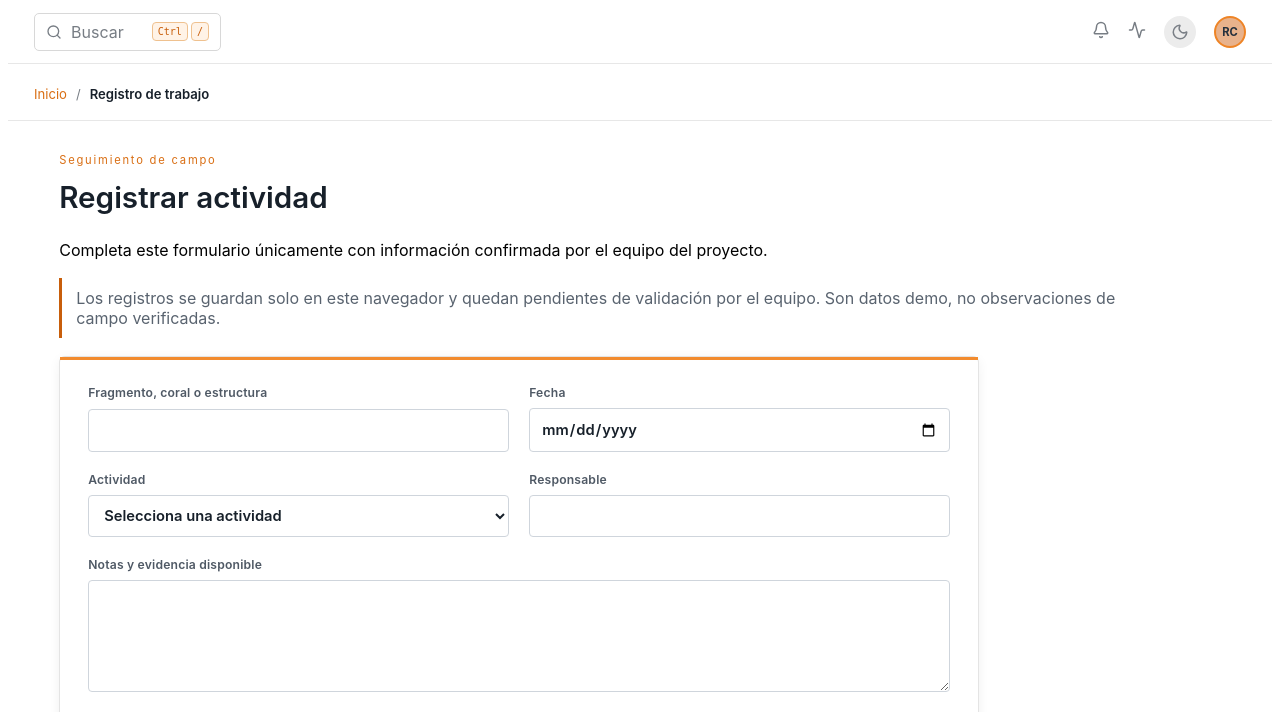
Test case: ObservationsPage › does not confirm success when storage writes fail
Type "F-1" into the field labelled "Fragmento, coral o estructura" at (299, 431), box [88, 409, 509, 452]
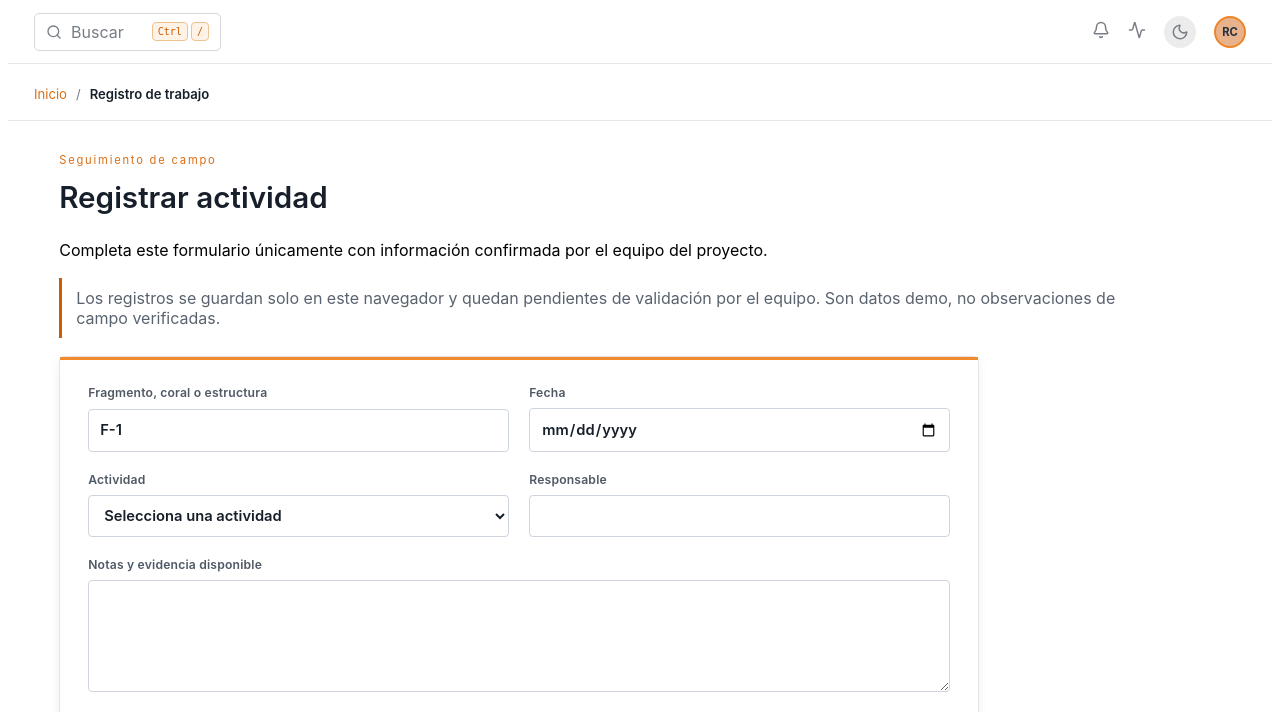
Type "2026-10-08" into the date field labelled "Fecha" at (740, 430), box [529, 408, 950, 452]
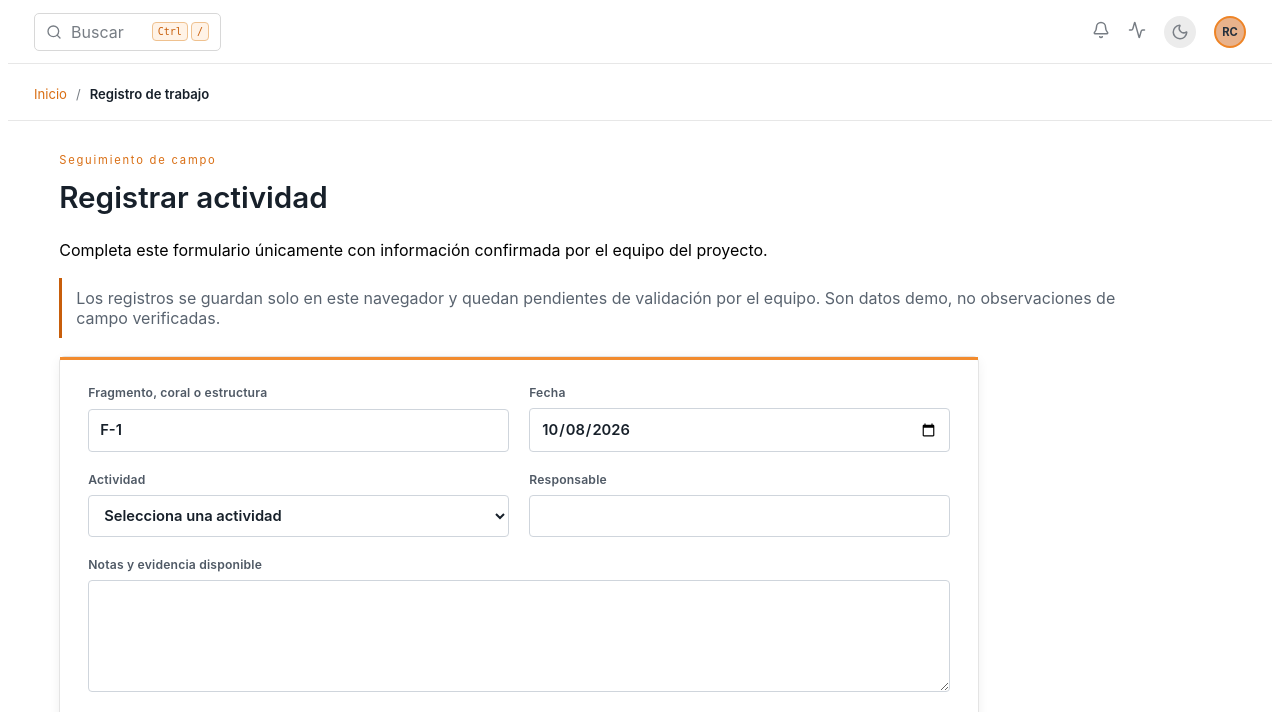
Select "Monitoreo" in the dropdown labelled "Actividad" at (299, 516), box [88, 495, 509, 537]
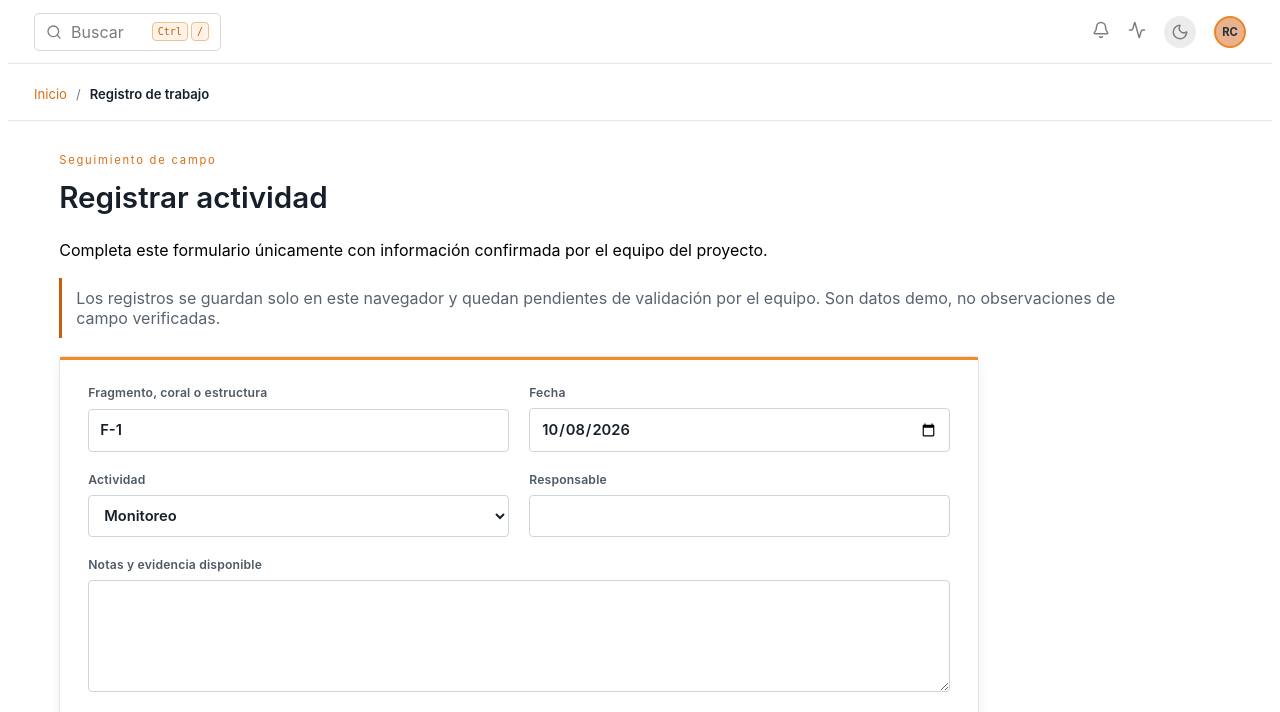
Type "Equipo" into the field labelled "Responsable" at (740, 516), box [529, 495, 950, 537]
(page scrolled)
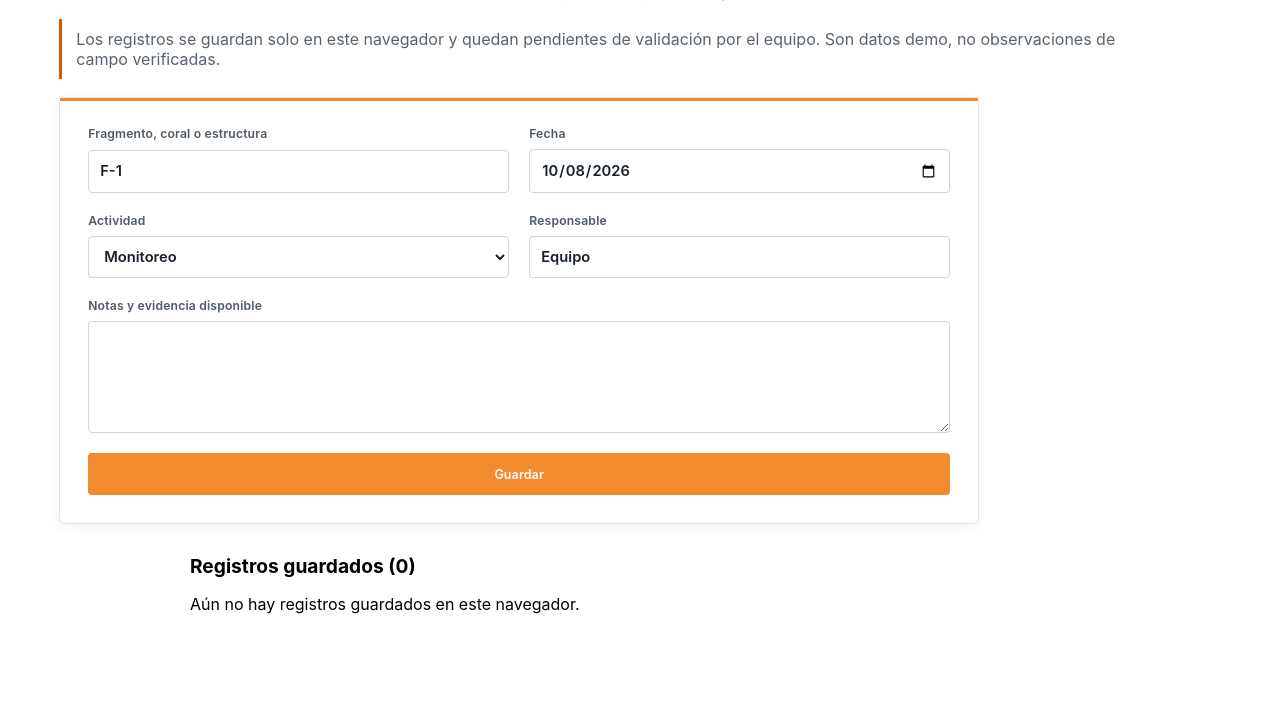
Click the button "Guardar" at (519, 474), box [88, 453, 950, 495]
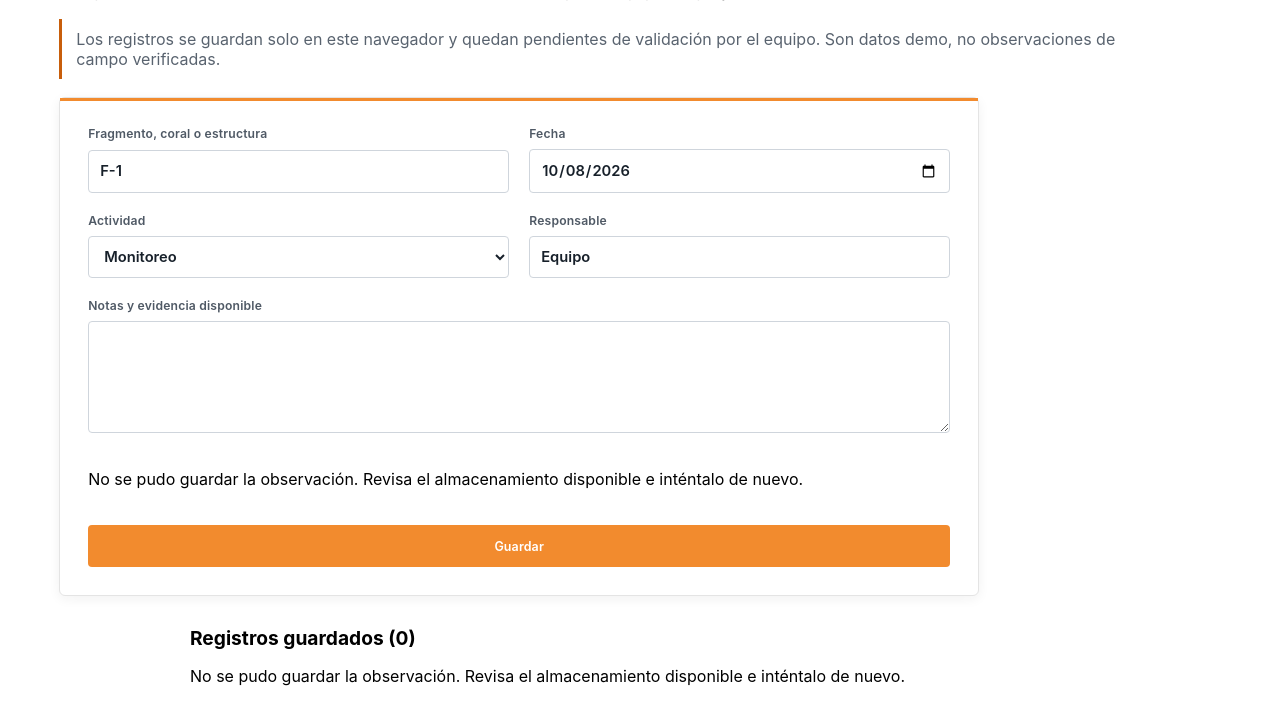
Check: the message is shown, box [88, 469, 803, 489]
